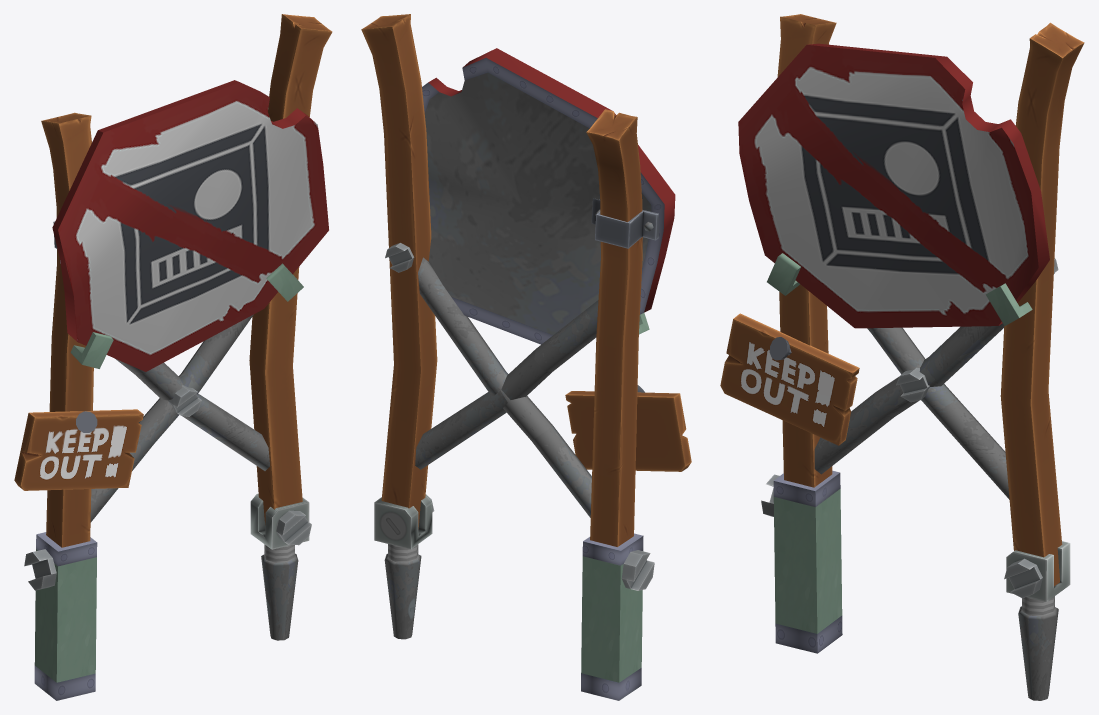
Rendered from env_hideout_hideoutsign05.fbx.
The picture shows the model from 3 angles, left to right: view 1: azimuth 30°, elevation 25°; view 2: azimuth 150°, elevation 25°; view 3: azimuth 330°, elevation 25°; orthographic projection. The views are drawn at different scales.
Parts seen in each view (by area): view 1: env_hideout_hideoutsign05; view 2: env_hideout_hideoutsign05; view 3: env_hideout_hideoutsign05.
Part boxes in pixels (x1,y1,x2,y2): env_hideout_hideoutsign05: (14,14,332,700); env_hideout_hideoutsign05: (361,14,691,700); env_hideout_hideoutsign05: (720,14,1084,700).
Bounding box in the file's own units: 11.33 × 21.34 × 2.74.
Materials: 1 (1 with a texture image).
